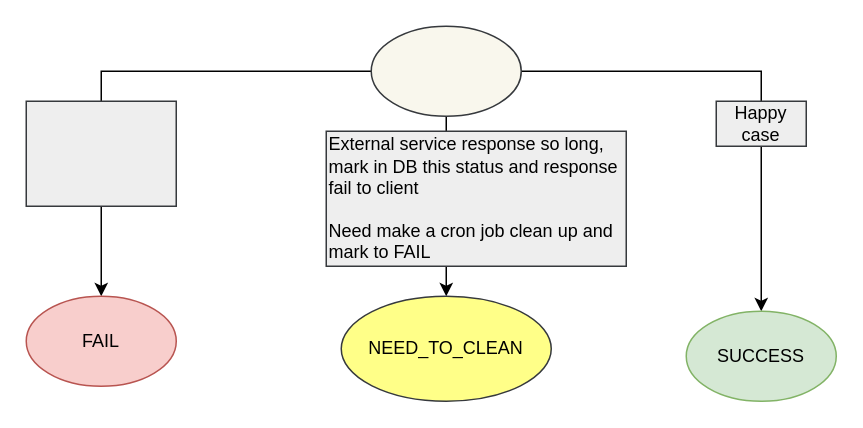
Image size: 863x428. Some labels were removed from this diagram. Each missing label, with the centre of its shape:
"INIT" belongs at point (445, 70).
"retry a lot of times and send to dead letter queue" belongs at point (100, 153).
